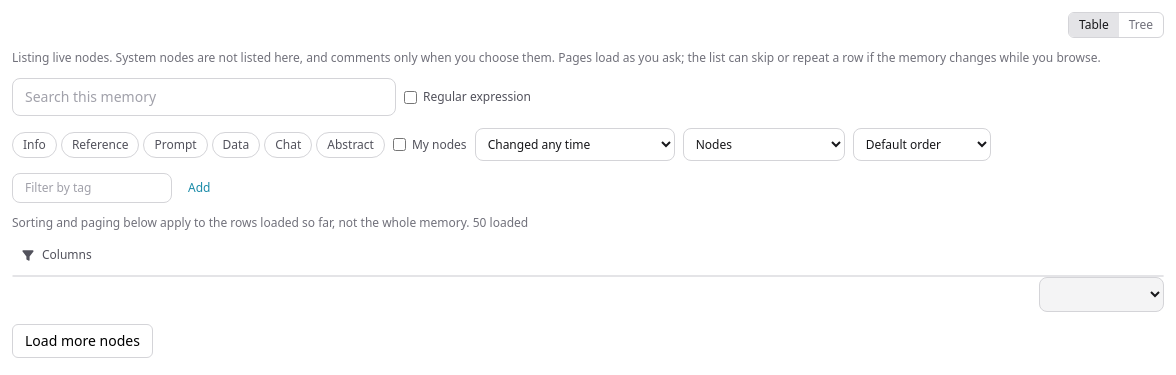
Test case: Table (default) › Load more nodes reads the next offset; rows repeated by offset paging are shown once
Click the button "Load more nodes".
click(82, 341)  # box [12, 324, 153, 358]
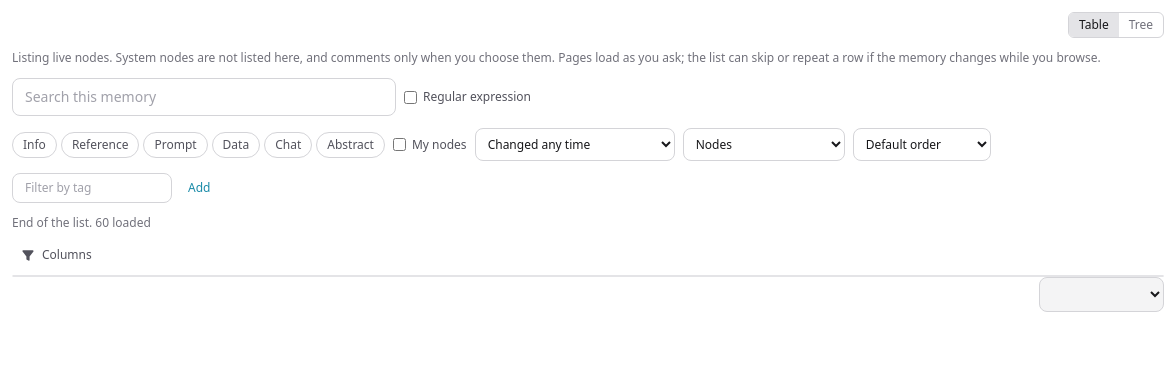
Result: the text with test id "table-partial" reads "End of the list. 60 loaded" at [12, 214, 151, 231]
